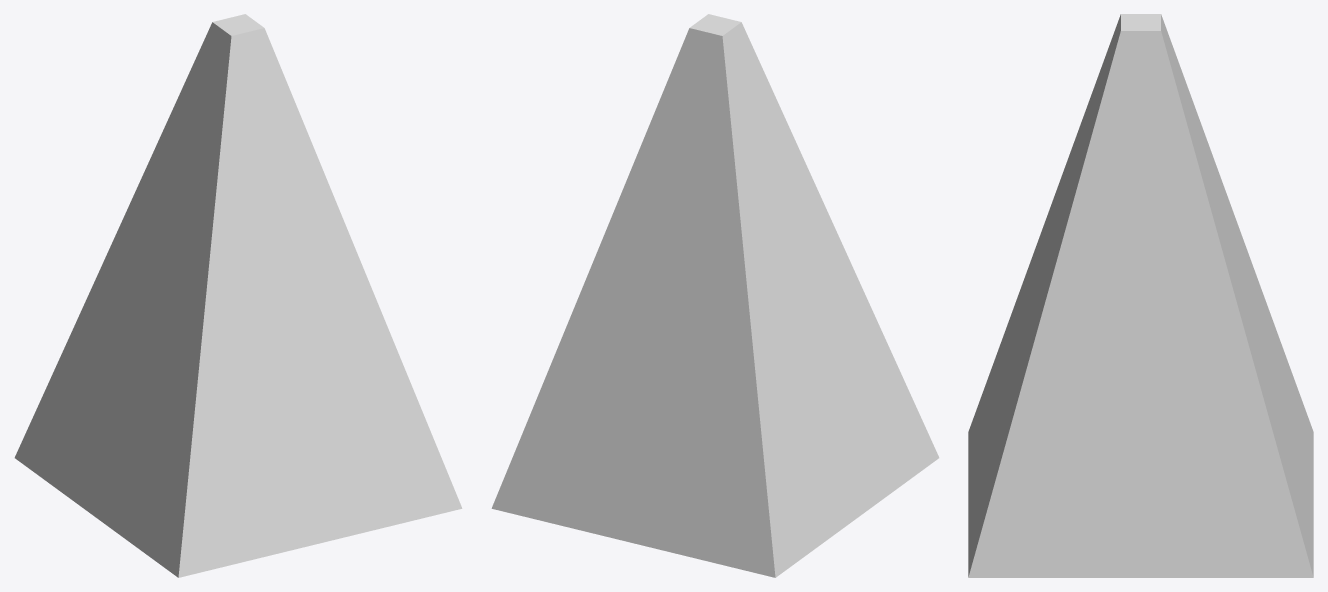
File: SM_Env_Tree_02_snow01.obj
3 renders of one model, left to right at view 1: azimuth 30°, elevation 25°; view 2: azimuth 150°, elevation 25°; view 3: azimuth 270°, elevation 25°, orthographic. The views are drawn at different scales.
Parts seen in each view (by area): view 1: SM_Env_Tree_02_snow:Mesh; view 2: SM_Env_Tree_02_snow:Mesh; view 3: SM_Env_Tree_02_snow:Mesh.
Part boxes in pixels (x1,y1,x2,y2): SM_Env_Tree_02_snow:Mesh: (14,14,462,577); SM_Env_Tree_02_snow:Mesh: (491,14,939,577); SM_Env_Tree_02_snow:Mesh: (968,14,1313,577).
Bounding box in the file's own units: 1.67 × 2.57 × 1.67.
1 material, 1 textured.
